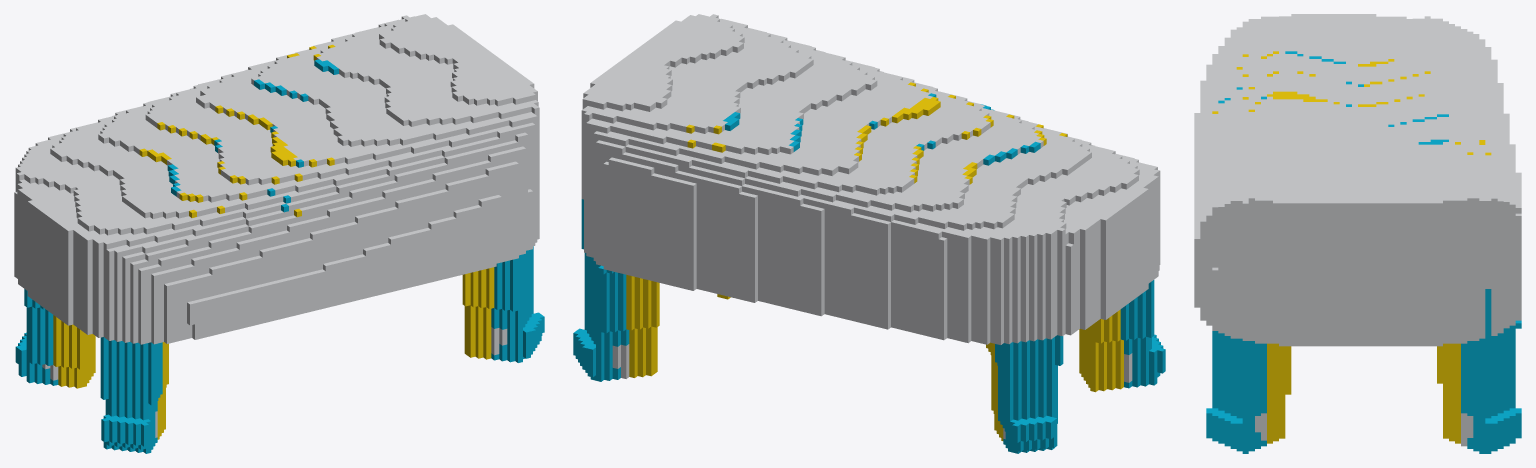
3 renders of one model, left to right at view 1: azimuth 30°, elevation 25°; view 2: azimuth 150°, elevation 25°; view 3: azimuth 270°, elevation 25°, orthographic. The views are drawn at different scales.
Visible parts, largest first — view 1: =>[0:1:1:762], =>[0:1:1:156], =>[0:1:1:404], =>[0:1:1:126], =>[0:1:1:340], =>[0:1:1:38], =>[0:1:1:214], =>[0:1:1:418], =>[0:1:1:405], =>[0:1:1:584], =>[0:1:1:403], =>[0:1:1:792] (+39 smaller); view 2: =>[0:1:1:298], =>[0:1:1:718], =>[0:1:1:711], =>[0:1:1:867], =>[0:1:1:423], =>[0:1:1:156], =>[0:1:1:126], =>[0:1:1:814], =>[0:1:1:340], =>[0:1:1:38], =>[0:1:1:1331], =>[0:1:1:214] (+31 smaller); view 3: =>[0:1:1:705], =>[0:1:1:296], =>[0:1:1:295], =>[0:1:1:126], =>[0:1:1:340], =>[0:1:1:38], =>[0:1:1:434], =>[0:1:1:1063], =>[0:1:1:433], =>[0:1:1:214], =>[0:1:1:40], =>[0:1:1:584] (+61 smaller).
Boxes of the visible parts, x1,y1,x2,y2 form: =>[0:1:1:762]: [195, 229, 496, 339]; =>[0:1:1:156]: [27, 201, 68, 325]; =>[0:1:1:404]: [187, 248, 322, 302]; =>[0:1:1:126]: [406, 14, 535, 99]; =>[0:1:1:340]: [273, 56, 365, 106]; =>[0:1:1:38]: [345, 35, 469, 119]; =>[0:1:1:214]: [229, 86, 307, 127]; =>[0:1:1:418]: [73, 230, 87, 334]; =>[0:1:1:405]: [323, 222, 362, 263]; =>[0:1:1:584]: [64, 129, 144, 178]; =>[0:1:1:403]: [498, 163, 518, 230]; =>[0:1:1:792]: [114, 111, 191, 158]; =>[0:1:1:298]: [603, 164, 693, 290]; =>[0:1:1:718]: [824, 209, 887, 329]; =>[0:1:1:711]: [758, 195, 821, 315]; =>[0:1:1:867]: [696, 183, 754, 302]; =>[0:1:1:423]: [891, 227, 943, 340]; =>[0:1:1:156]: [1106, 189, 1148, 319]; =>[0:1:1:126]: [583, 14, 719, 103]; =>[0:1:1:814]: [947, 233, 968, 342]; =>[0:1:1:340]: [713, 94, 810, 147]; =>[0:1:1:38]: [651, 36, 782, 124]; =>[0:1:1:1331]: [971, 235, 987, 344]; =>[0:1:1:214]: [794, 113, 871, 158]; =>[0:1:1:705]: [1279, 203, 1442, 346]; =>[0:1:1:296]: [1443, 200, 1467, 343]; =>[0:1:1:295]: [1255, 211, 1278, 343]; =>[0:1:1:126]: [1248, 188, 1479, 198]; =>[0:1:1:340]: [1352, 129, 1473, 147]; =>[0:1:1:38]: [1248, 162, 1479, 170]; =>[0:1:1:434]: [1467, 198, 1479, 340]; =>[0:1:1:1063]: [1230, 201, 1242, 338]; =>[0:1:1:433]: [1242, 203, 1254, 340]; =>[0:1:1:214]: [1346, 107, 1448, 122]; =>[0:1:1:40]: [1255, 157, 1473, 162]; =>[0:1:1:584]: [1352, 46, 1479, 56].
Size of the model in its own units: 39.24 by 20.27 by 23.29.
